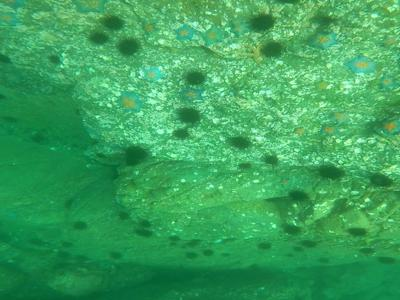urchin: (319, 163, 343, 180), (118, 38, 140, 56), (254, 15, 274, 31), (261, 42, 282, 57), (178, 108, 199, 122), (126, 148, 148, 161), (373, 173, 392, 187), (186, 71, 204, 84), (230, 137, 250, 148), (91, 29, 106, 43), (101, 19, 121, 29), (268, 154, 279, 164)
